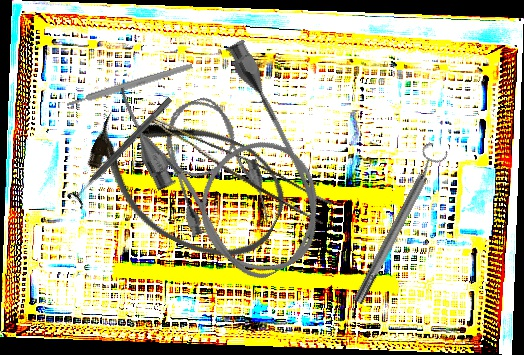Cannula: (107, 26, 348, 304), (71, 84, 301, 279), (152, 87, 276, 246)
Fixation Ring: (344, 140, 451, 309), (65, 91, 179, 211)
Scalpel Handle: (65, 62, 194, 108)
Tissue Forceps: (139, 115, 335, 225)
